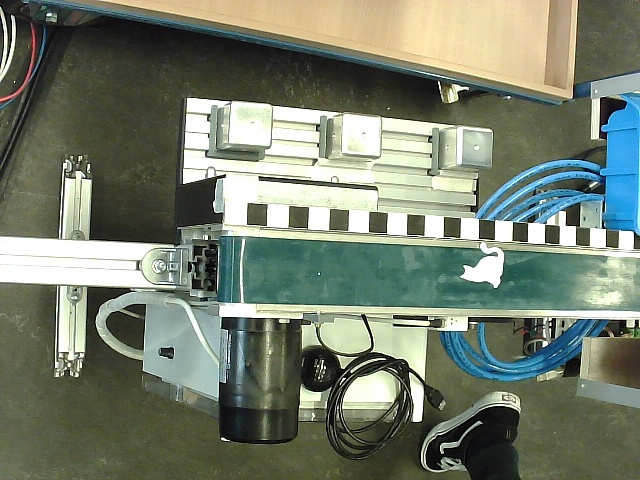cat: (460, 243, 506, 289)
